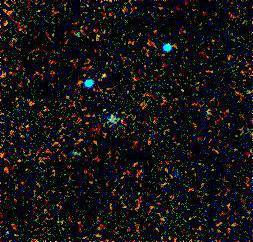star: (92, 61, 122, 91)
